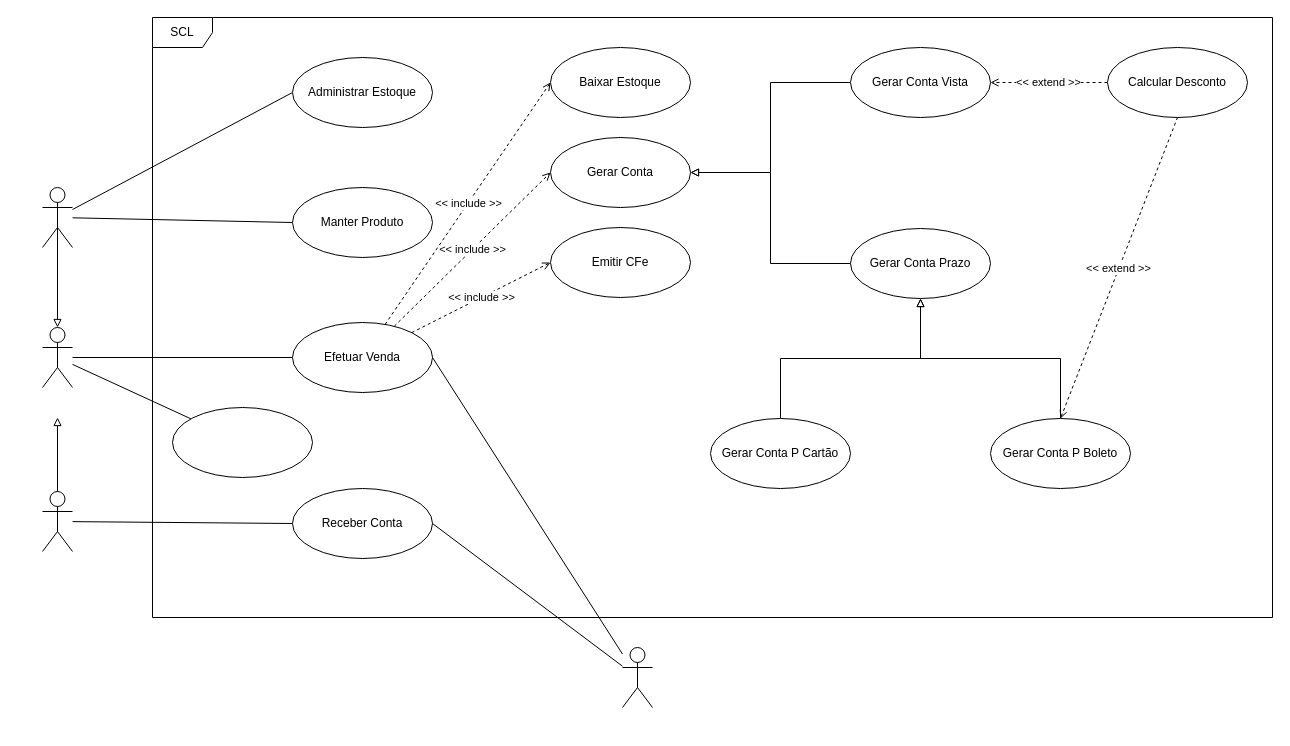
The diagram is 1290 pixels wide and 746 high, and some of its shapes have lost their labels. The shapes that lost their labels are listed below. From the top down, each one's centre as x and y in pixels, then its label:
At [57,217]: "Gerente".
At [57,357]: "Vendedor".
At [242,442]: "Efetuar Login".
At [57,521]: "Ajudante Geral".
At [637,677]: "Cliente".
